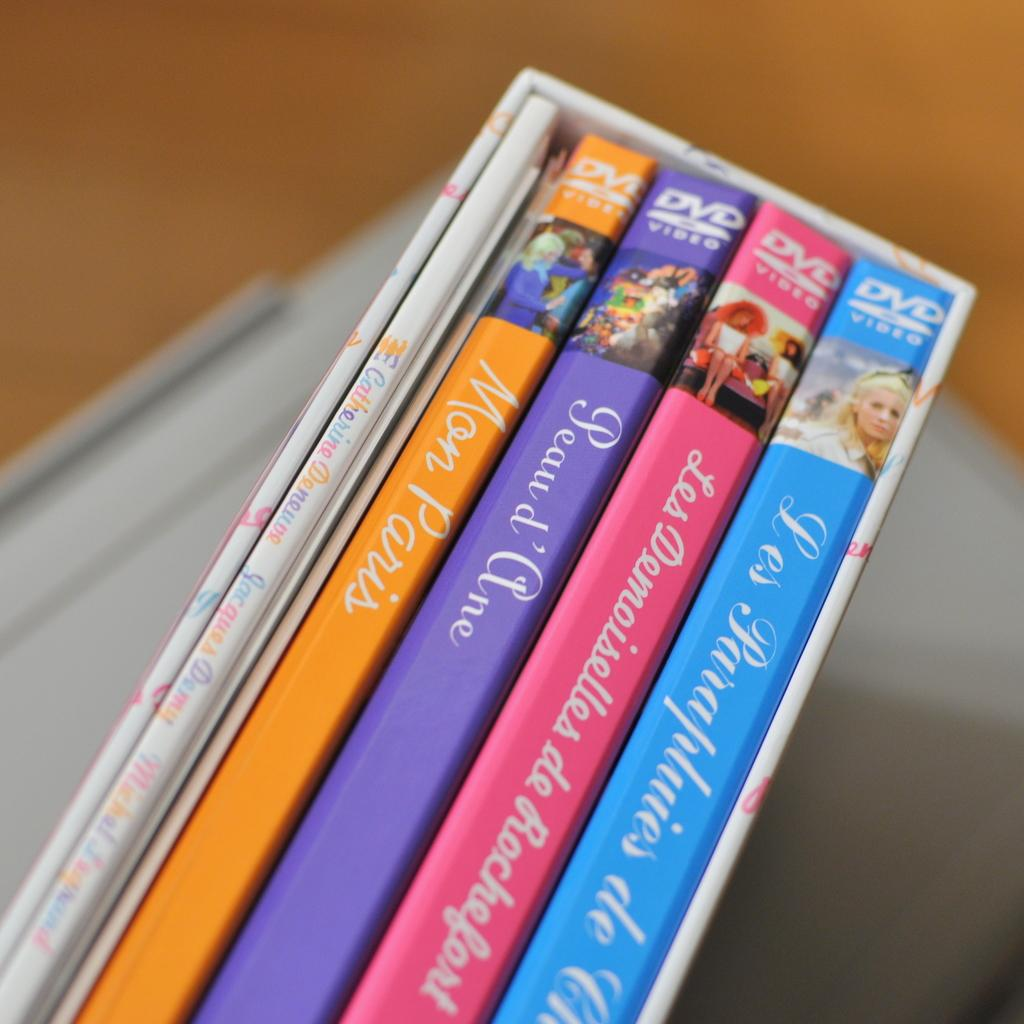Book: (76, 140, 654, 1022)
